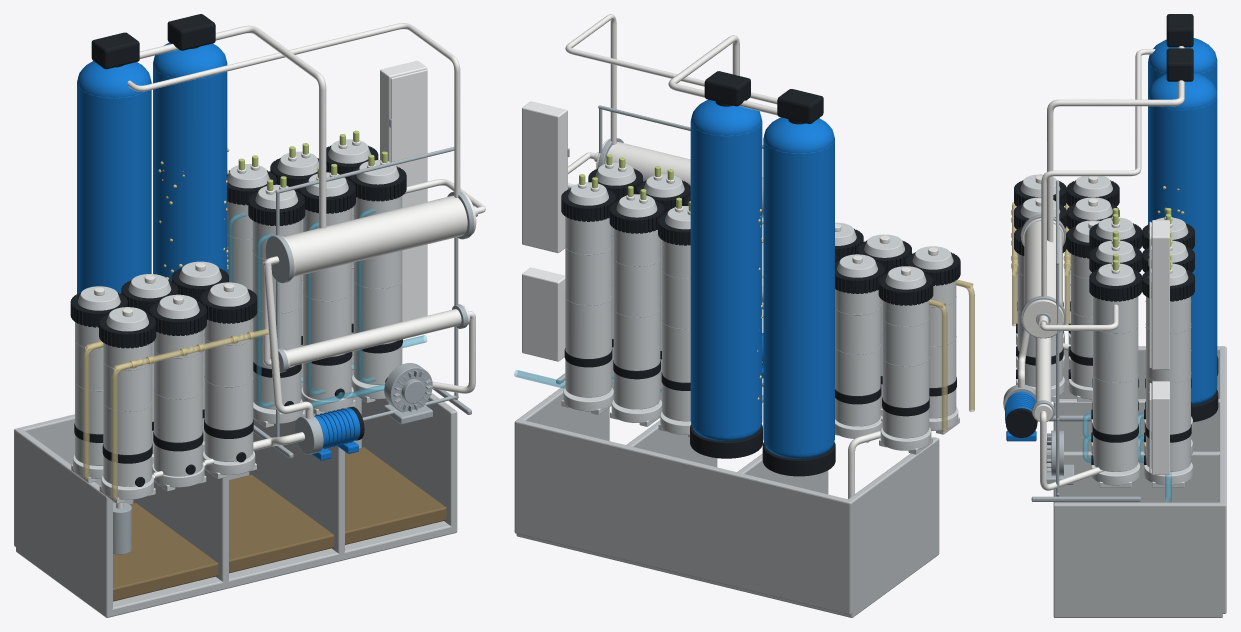
File: Oceanides-STP-Recreated.glb
3 views of the same model, side by side, from view 1: azimuth 30°, elevation 25°; view 2: azimuth 150°, elevation 25°; view 3: azimuth 270°, elevation 25° (orthographic). The views are drawn at different scales.
Parts seen in each view (by area): view 1: Tank sludge, Blue vessel 0 solid shell, Blue vessel 1 solid shell, Tank partition, Fractionation housing 0 solid shell, Tank partition.003, EC 0 2 solid shell, EC 0 0 solid shell, Tank partition.002, Belowground floor, AOP 0 2 solid shell, Tank partition.001 (+56 smaller); view 2: Belowground back, Blue vessel 0 solid shell, Media vessel open cutaway, Tank partition, AOP 1 1 solid shell, AOP 1 2 solid shell, Blue vessel 1 solid shell, Control cabinet shell, EC 1 0 solid shell, EC 1 1 solid shell, AOP 1 0 solid shell, Control cabinet shell.001 (+31 smaller); view 3: Tank partition.003, Media vessel open cutaway, AOP 0 2 solid shell, Blue vessel 1 solid shell, AOP 1 2 solid shell, Tank partition.002, Tank partition.001, Control cabinet shell, EC 1 2 solid shell, Blue parallel return, Fractionation housing 0 solid shell, Blue upper distribution (+46 smaller).
Boxes of the visible parts, <box> form: Tank sludge: <box>113,447,446,601</box>; Blue vessel 0 solid shell: <box>77,83,151,293</box>; Blue vessel 1 solid shell: <box>153,65,227,281</box>; Tank partition: <box>16,429,112,610</box>; Fractionation housing 0 solid shell: <box>284,195,467,276</box>; Tank partition.003: <box>361,393,457,528</box>; EC 0 2 solid shell: <box>204,318,253,461</box>; EC 0 0 solid shell: <box>103,343,151,486</box>; Tank partition.002: <box>249,410,344,555</box>; Belowground floor: <box>16,521,457,617</box>; AOP 0 2 solid shell: <box>353,196,402,384</box>; Tank partition.001: <box>133,470,228,582</box>; Belowground back: <box>514,419,853,614</box>; Blue vessel 0 solid shell: <box>763,139,834,454</box>; Media vessel open cutaway: <box>690,135,761,423</box>; Tank partition: <box>848,437,939,611</box>; AOP 1 1 solid shell: <box>613,228,660,409</box>; AOP 1 2 solid shell: <box>565,216,611,397</box>; Blue vessel 1 solid shell: <box>690,121,762,436</box>; Control cabinet shell: <box>522,101,567,252</box>; EC 1 0 solid shell: <box>882,300,929,438</box>; EC 1 1 solid shell: <box>835,288,880,426</box>; AOP 1 0 solid shell: <box>662,240,690,421</box>; Control cabinet shell.001: <box>522,267,565,361</box>; Tank partition.003: <box>1053,502,1220,611</box>; Media vessel open cutaway: <box>1168,110,1217,388</box>; AOP 0 2 solid shell: <box>1093,296,1138,471</box>; Blue vessel 1 solid shell: <box>1148,96,1217,400</box>; AOP 1 2 solid shell: <box>1146,296,1190,471</box>; Tank partition.002: <box>1053,451,1220,502</box>; Tank partition.001: <box>1053,399,1221,451</box>; Control cabinet shell: <box>1152,220,1169,369</box>; EC 1 2 solid shell: <box>1070,253,1092,387</box>; Blue parallel return: <box>1041,49,1155,296</box>; Fractionation housing 0 solid shell: <box>1024,221,1062,304</box>; Blue upper distribution: <box>1047,46,1184,242</box>.
Size of the model in its own units: 5.64 by 6.93 by 2.96.
